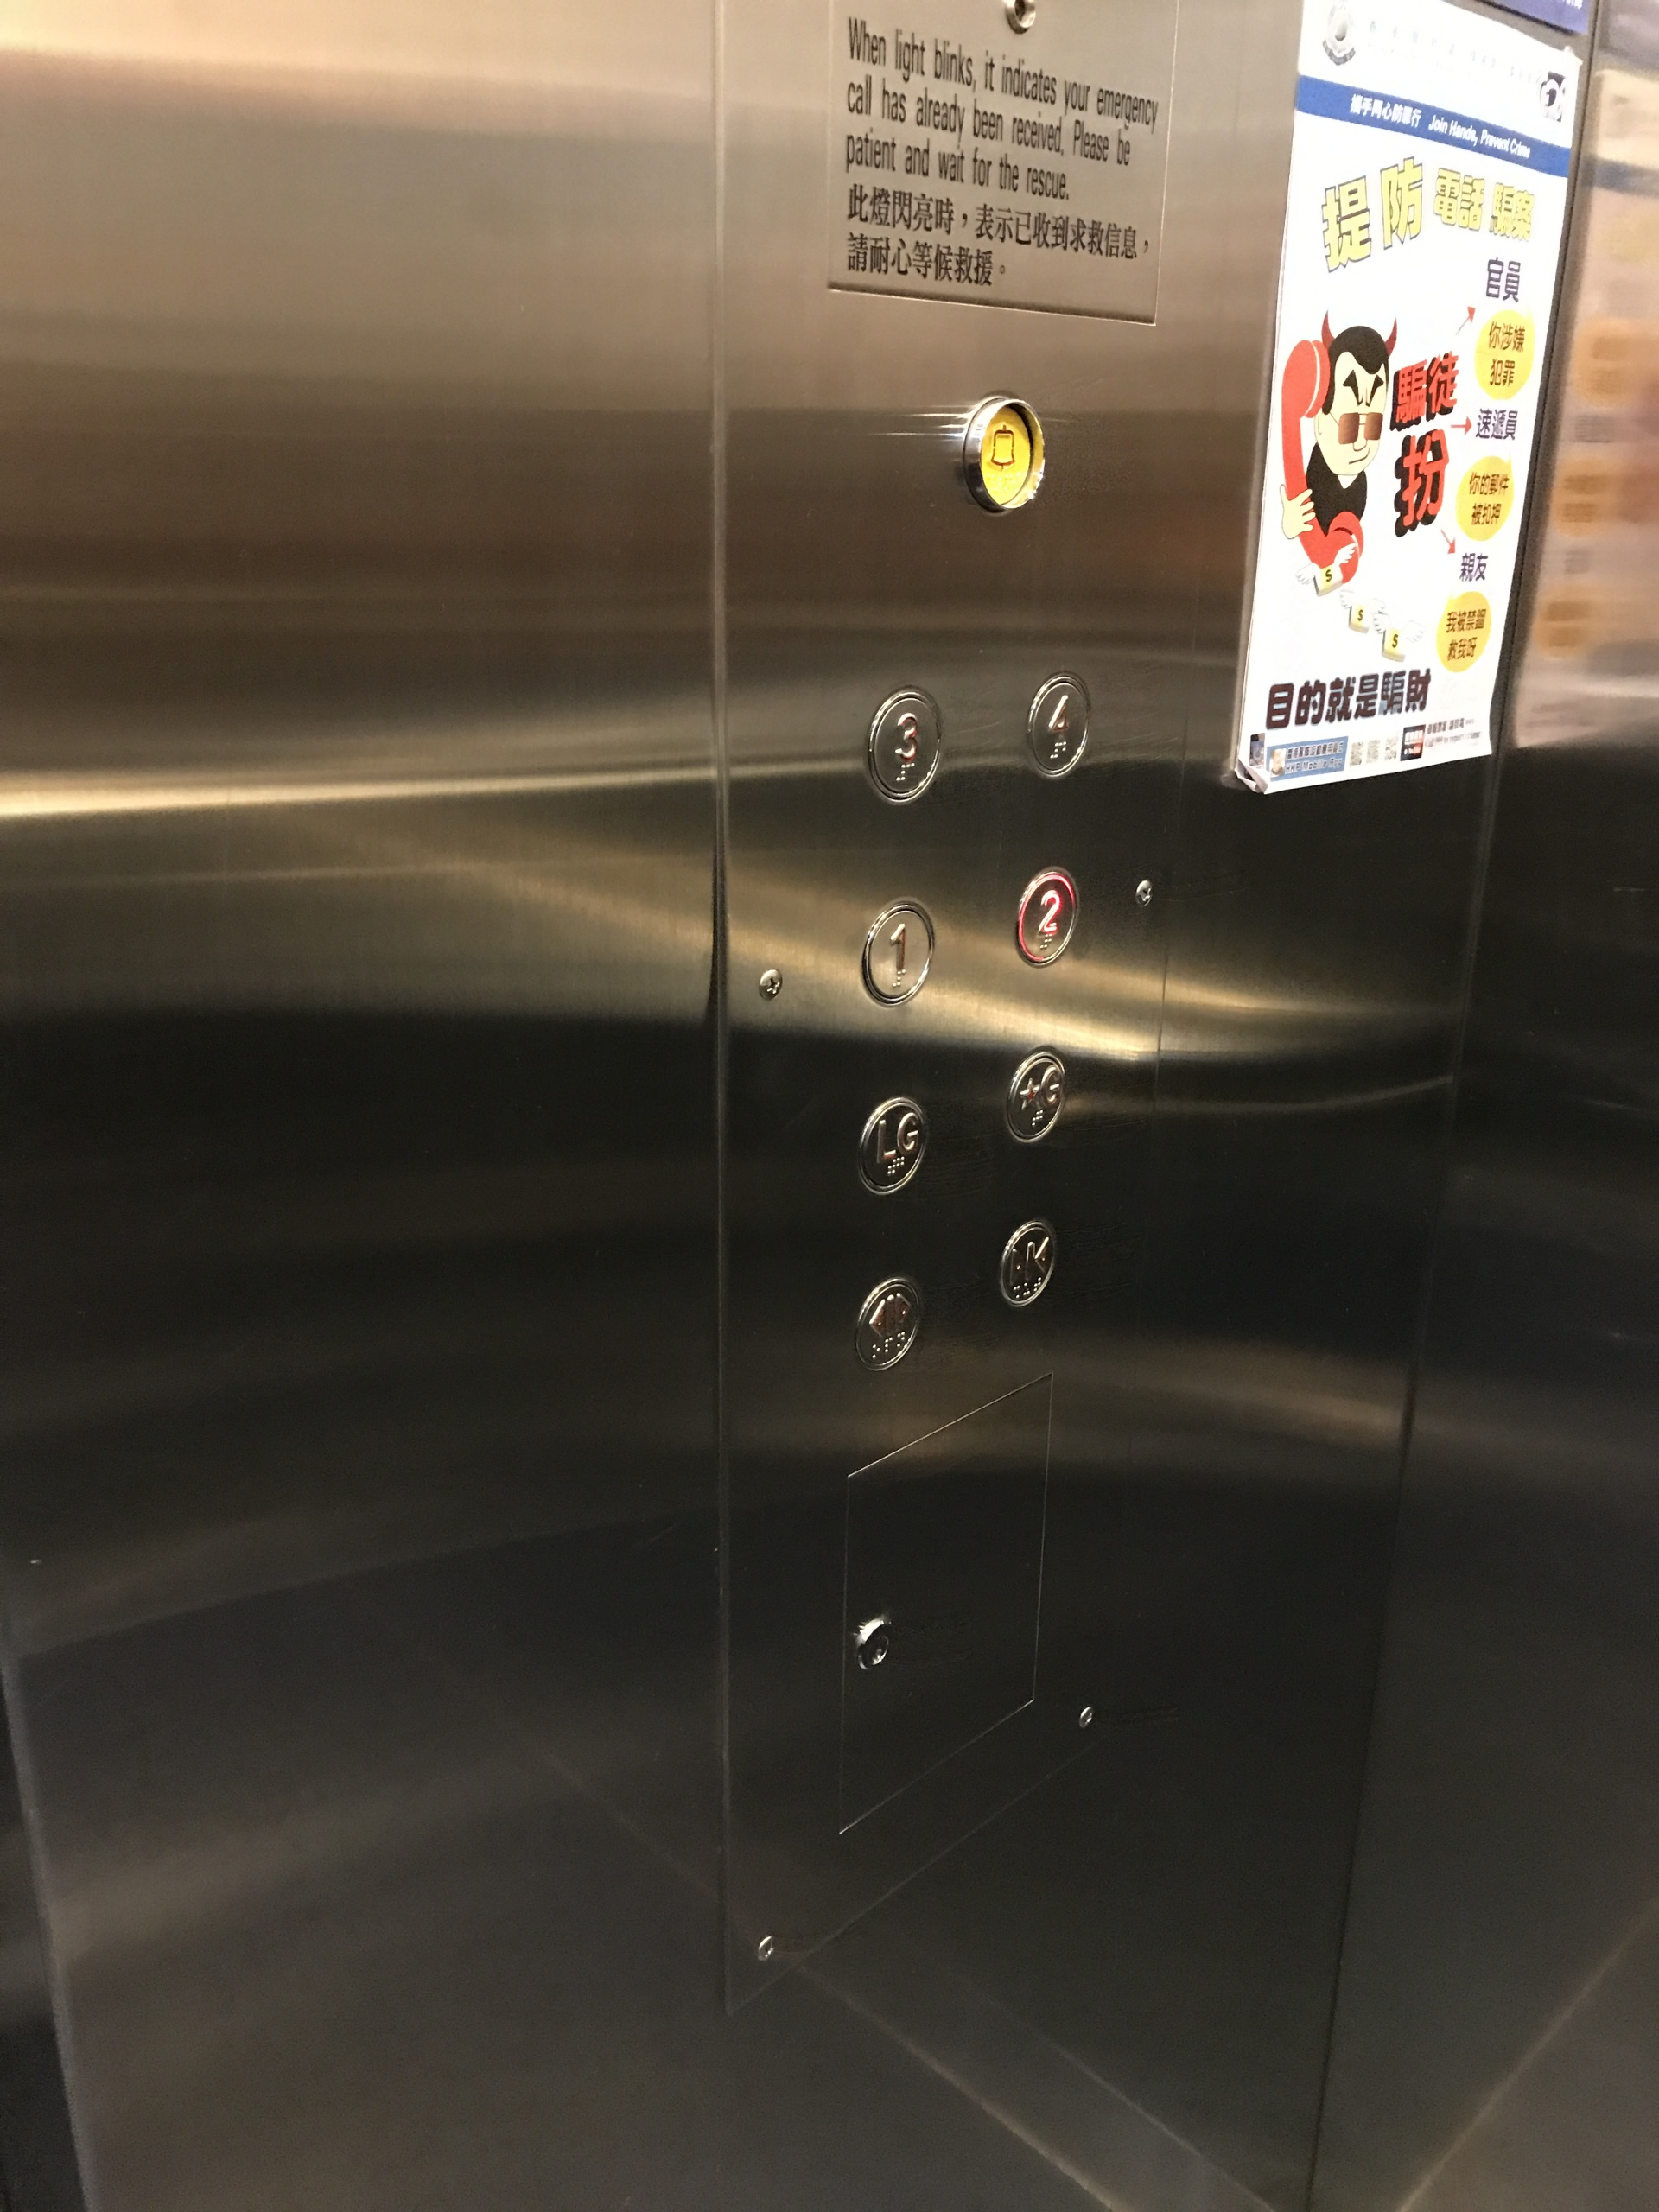1: (857, 897, 936, 1008)
2: (1012, 864, 1082, 970)
3: (864, 681, 946, 806)
4: (1019, 669, 1094, 782)
LG: (854, 1096, 929, 1197)
alarm: (960, 387, 1051, 517)
close: (993, 1216, 1058, 1312)
open: (850, 1275, 924, 1372)
sG: (1000, 1043, 1070, 1146)
